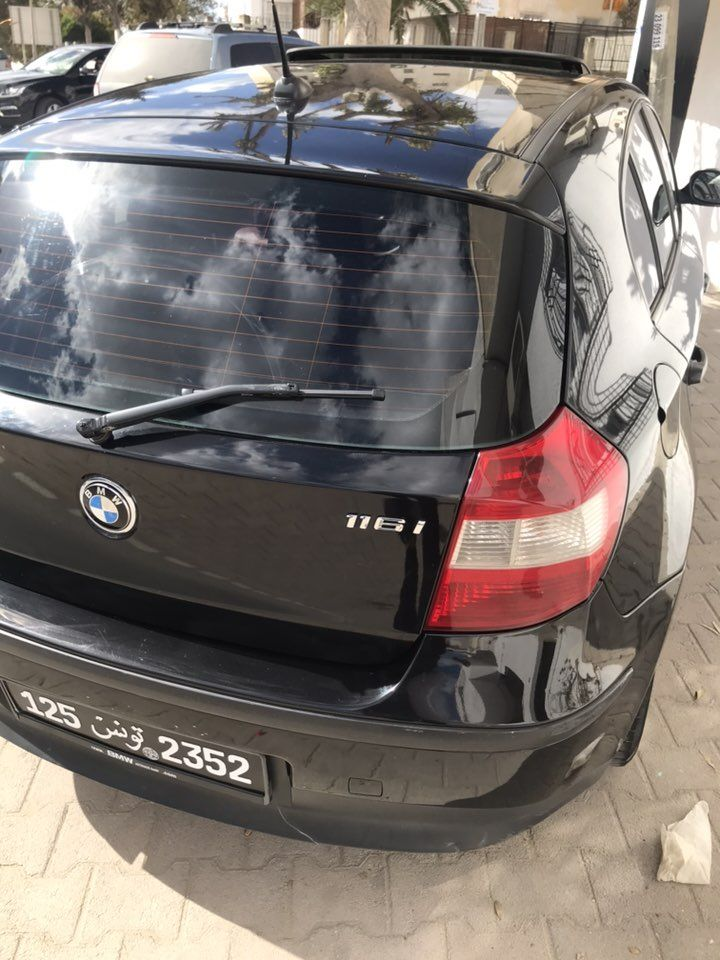LP: (1, 676, 274, 803)
